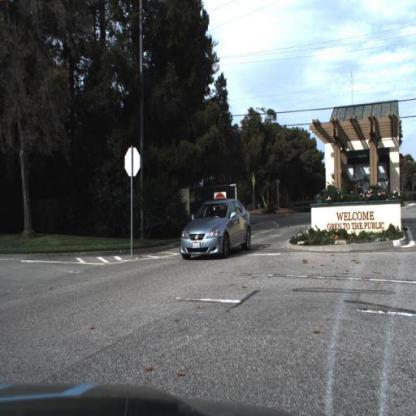car: (179, 194, 254, 265)
